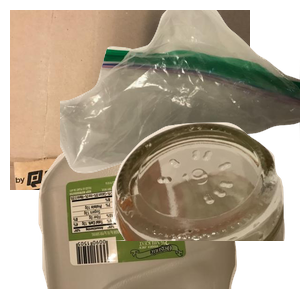cardboard: (10, 10, 250, 190)
glass: (89, 120, 300, 300)
plastic: (36, 120, 265, 300)
trash: (60, 10, 300, 176)
